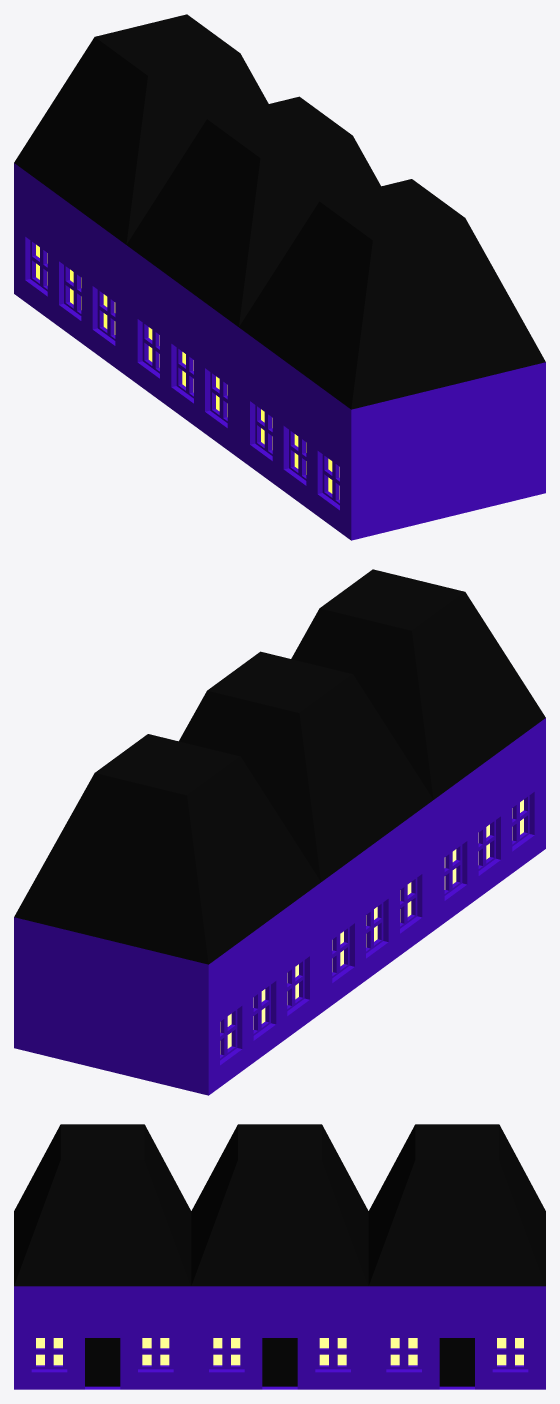
Rendered from bungalows_1(3).fbx.
3 views of the same model, one above another, from view 1: azimuth 30°, elevation 25°; view 2: azimuth 150°, elevation 25°; view 3: azimuth 270°, elevation 25° (orthographic). The views are drawn at different scales.
Parts seen in each view (by area): view 1: Cube; view 2: Cube; view 3: Cube.
Boxes of the visible parts, <box> form: Cube: <box>14,14,545,540</box>; Cube: <box>14,569,545,1095</box>; Cube: <box>14,1124,545,1389</box>.
Bounding box in the file's own units: 28 × 36.56 × 84.
